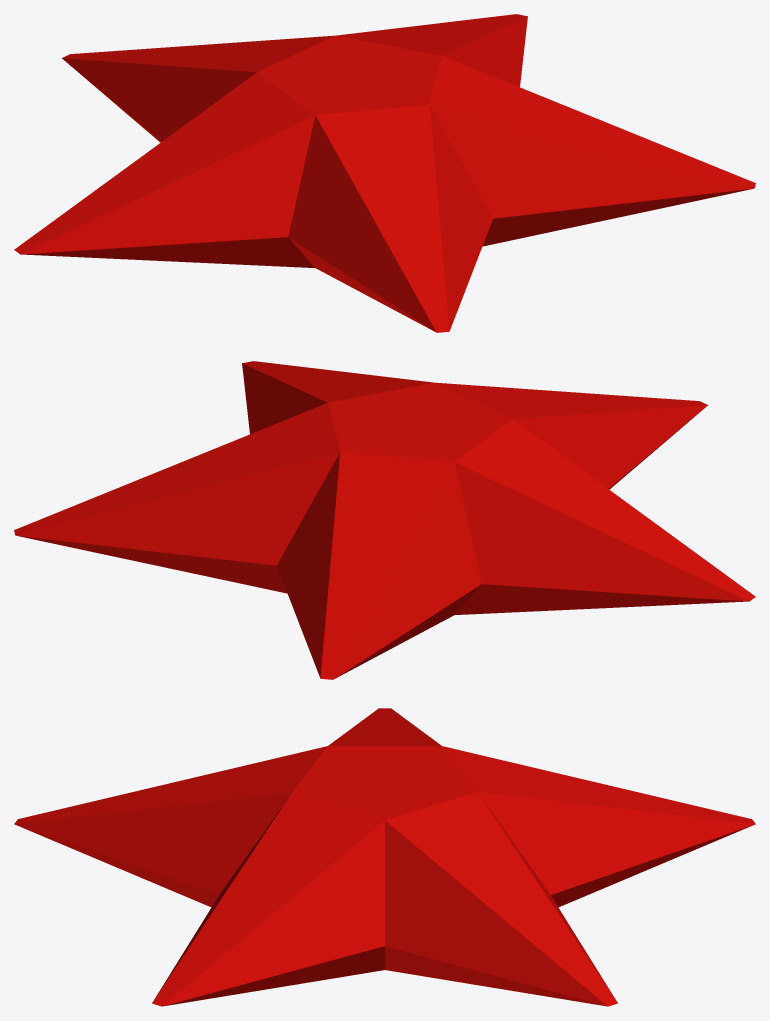
File: starfish_01.fbx
3 renders of one model, top to bottom at view 1: azimuth 30°, elevation 25°; view 2: azimuth 150°, elevation 25°; view 3: azimuth 270°, elevation 25°, orthographic. The views are drawn at different scales.
Parts seen in each view (by area): view 1: starfish_01; view 2: starfish_01; view 3: starfish_01.
Part boxes in pixels (left/top/right/bottom): starfish_01: left=14, top=14, right=755, bottom=332; starfish_01: left=14, top=361, right=755, bottom=679; starfish_01: left=14, top=708, right=755, bottom=1006.
Bounding box in the file's own units: 74.2 × 17.37 × 78.02.
